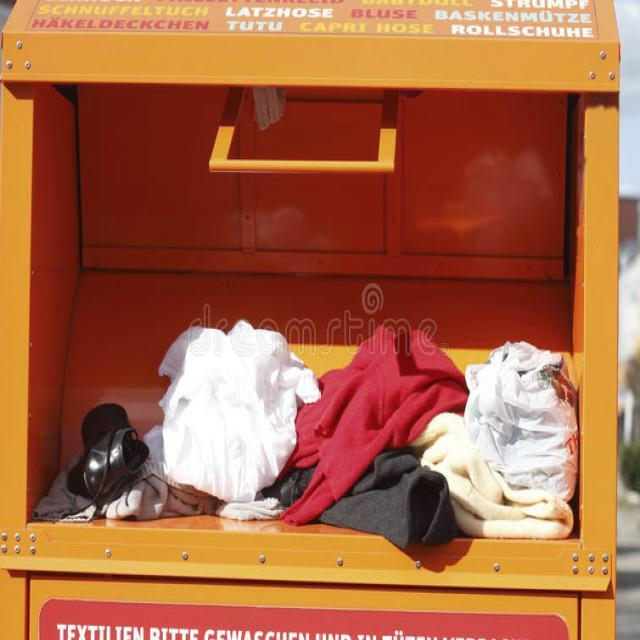clothes: (120, 317, 562, 538)
